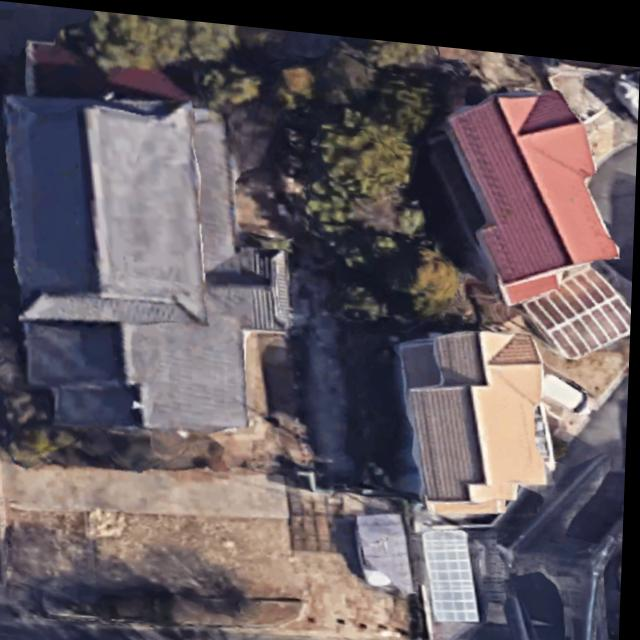Batiment: (6, 94, 290, 426), (448, 78, 620, 292), (400, 320, 550, 506), (426, 518, 484, 612), (360, 503, 417, 583)
